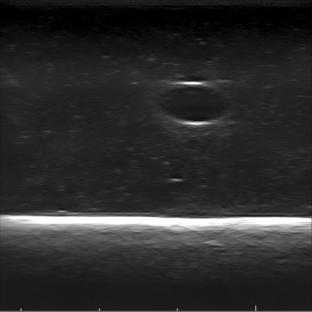vessel: (159, 80, 235, 128)
